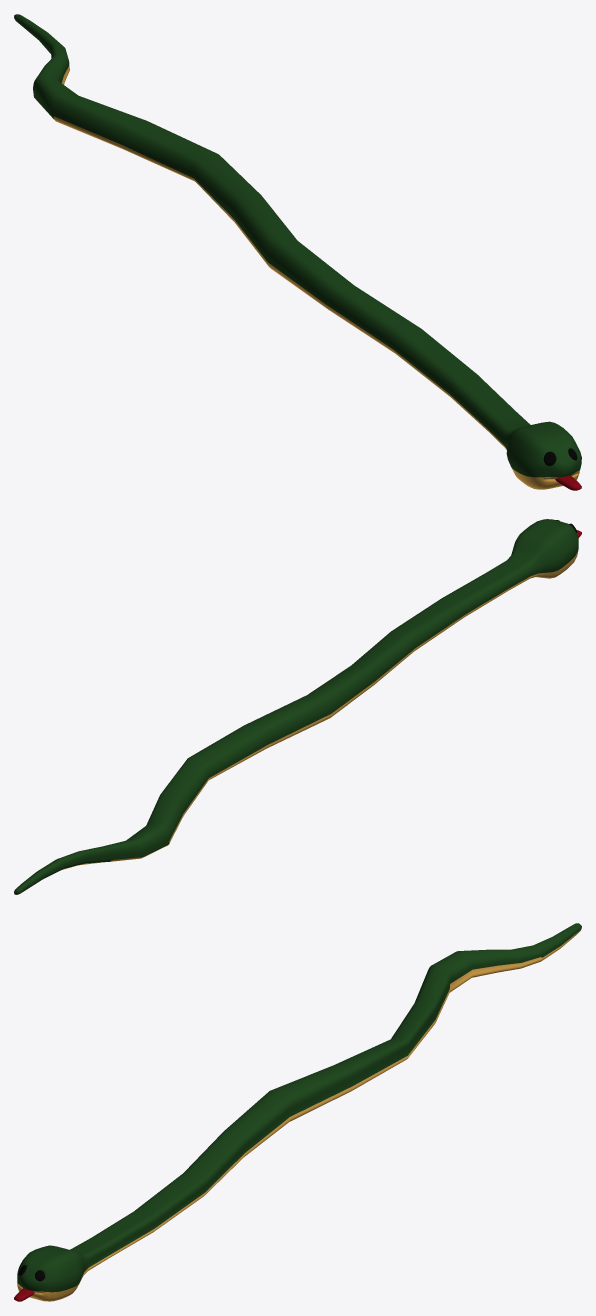
File: Snek_Unfolded.fbx
3 views of the same model, one above another, from view 1: azimuth 30°, elevation 25°; view 2: azimuth 150°, elevation 25°; view 3: azimuth 330°, elevation 25° (orthographic). The views are drawn at different scales.
Visible parts, largest first — view 1: SnekUnfolded; view 2: SnekUnfolded; view 3: SnekUnfolded.
Boxes of the visible parts, x1,y1,x2,y2 form: SnekUnfolded: (14,14,581,490); SnekUnfolded: (14,519,581,894); SnekUnfolded: (14,923,581,1301).
Bounding box in the file's own units: 8.43 × 4.92 × 106.
